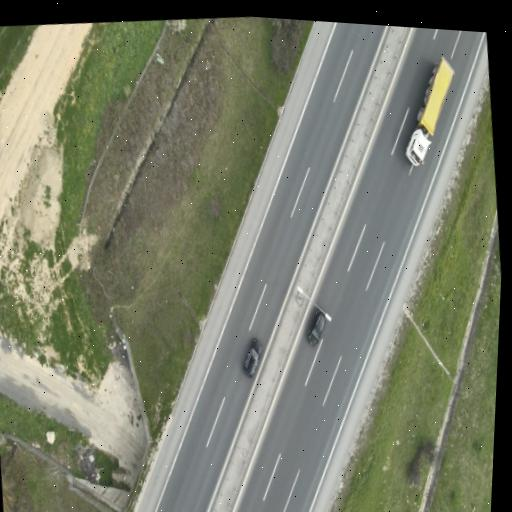car: (243, 339, 260, 377), (308, 309, 325, 346)
truck: (405, 57, 453, 166)
